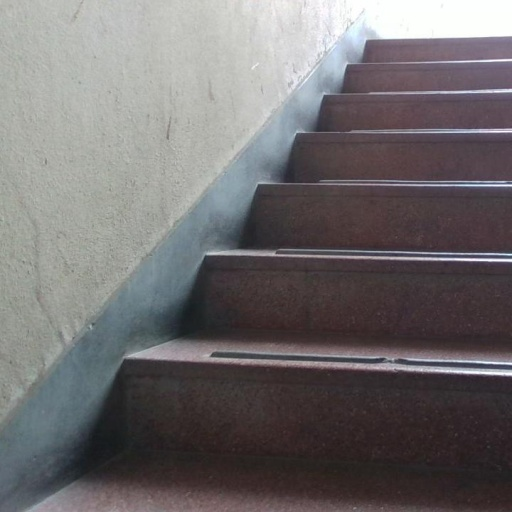Stairs: (32, 38, 512, 512)
